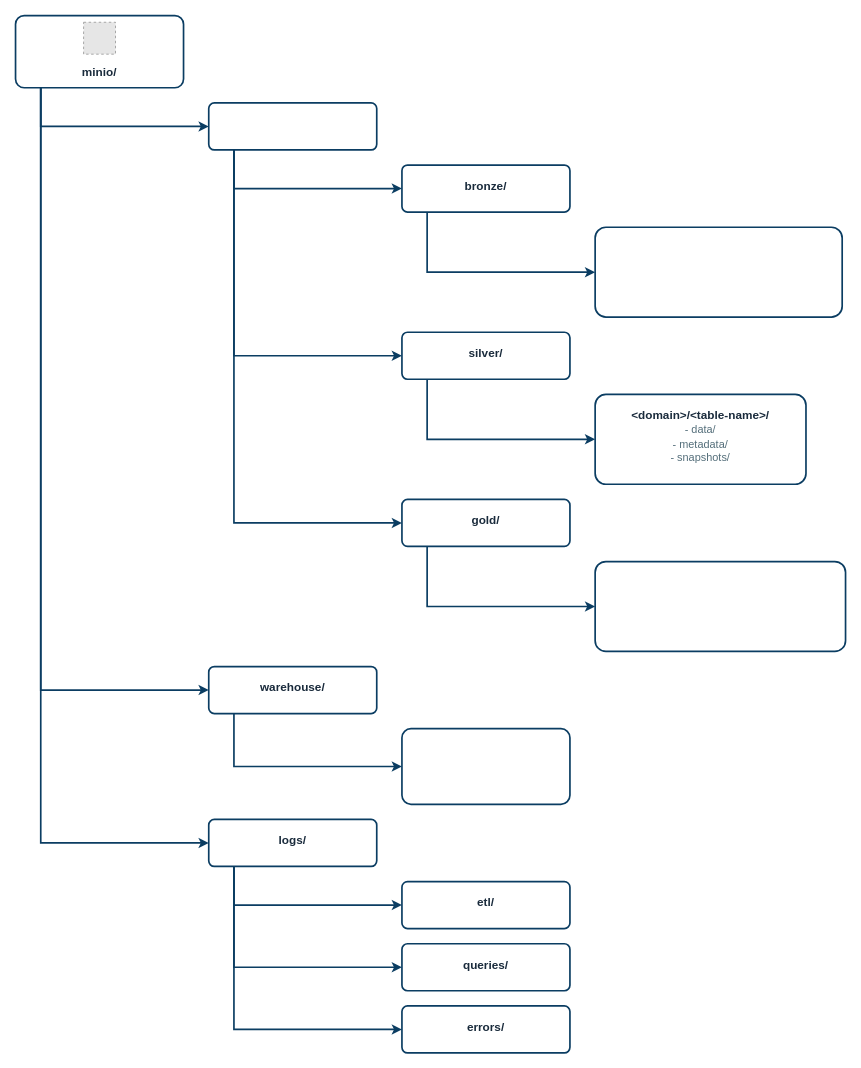
Image size: 861x1068. Some labels were removed from this diagram. Grey dashed boxes stand in for pictures. Each missing label, with the box of its shape:
<business-unit>/<table-name>/ - data/ - metadata/ - snapshots/: (594, 560, 846, 652)
<namespace>/ - metadata/ - version-hint.txt: (401, 727, 570, 805)
<source-name>/<table-name>/ - data/ - metadata/ - snapshots/: (594, 226, 843, 318)
iceberg-data/: (207, 102, 377, 150)
